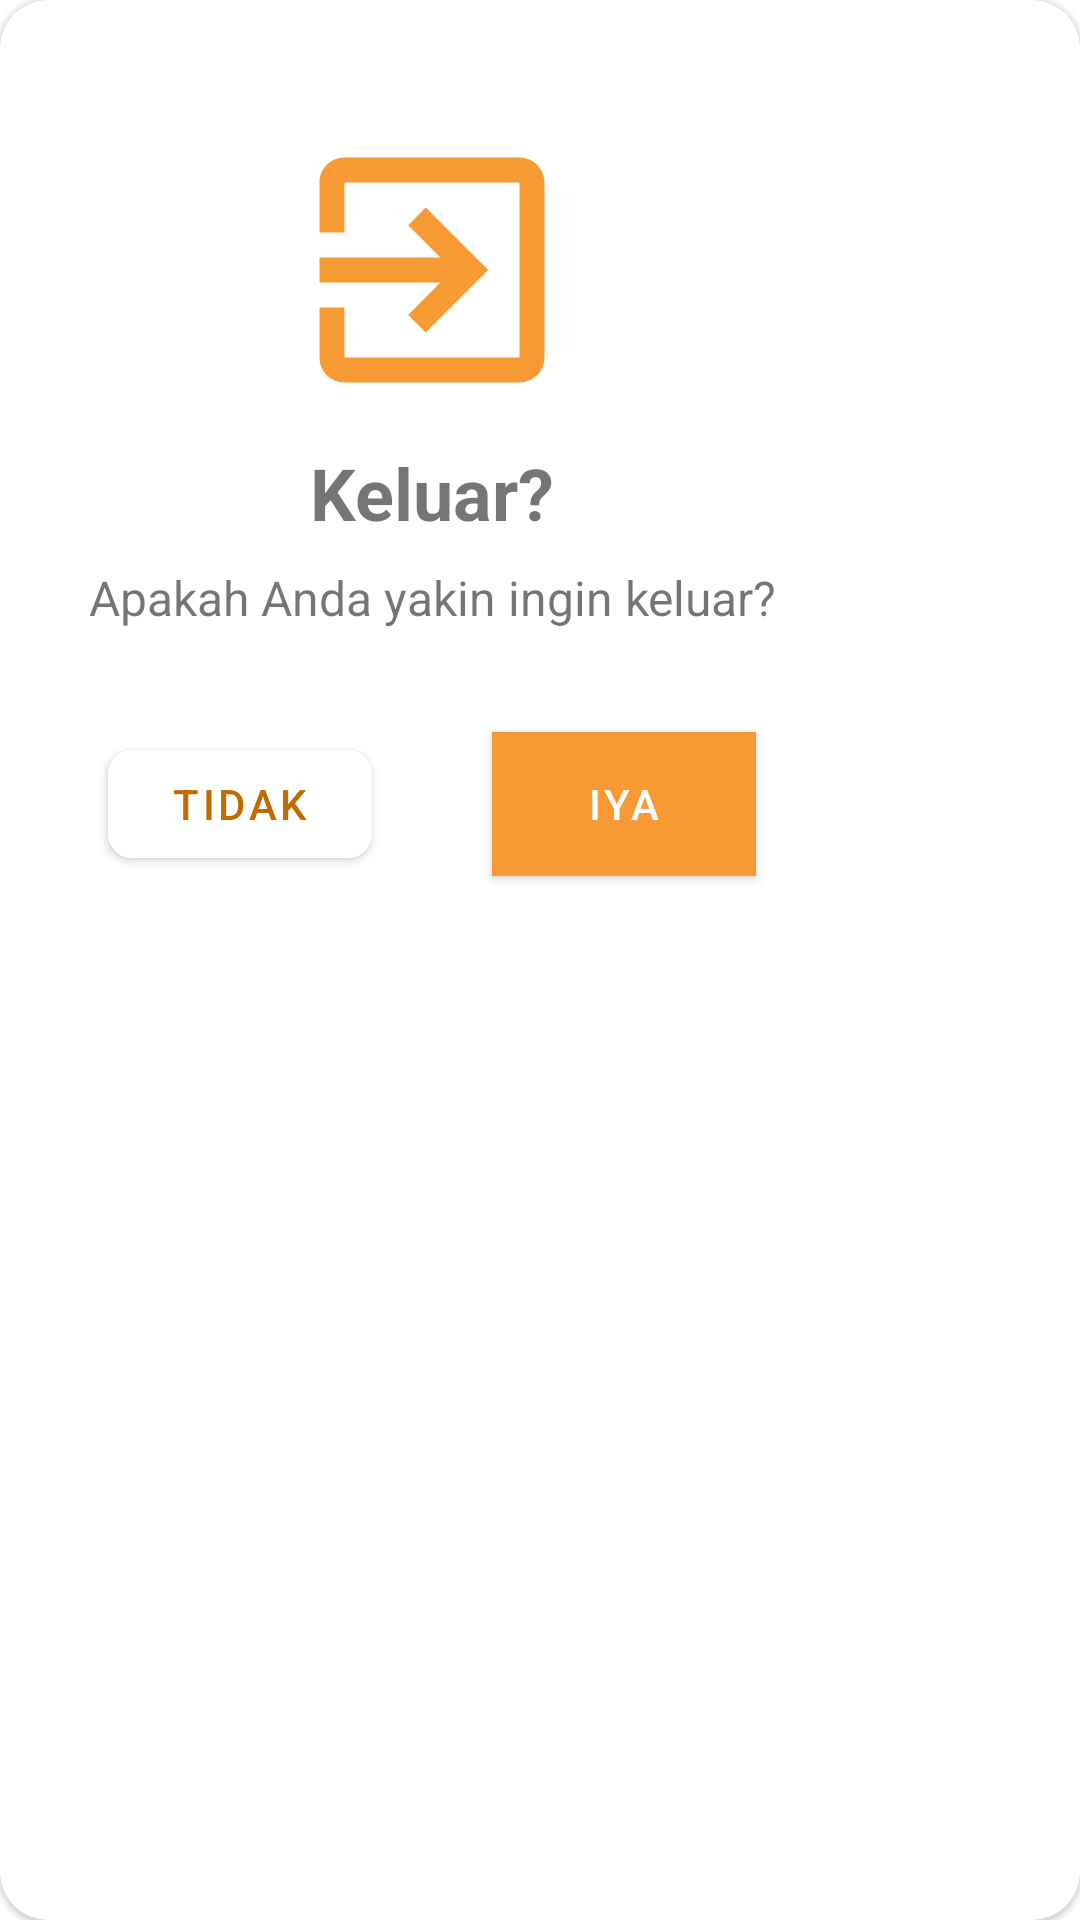

Named icons in this screenshot (1080x1920) and their bounding boxes, (x1, y1, x2, y2):
exit: (319, 157, 545, 383)
